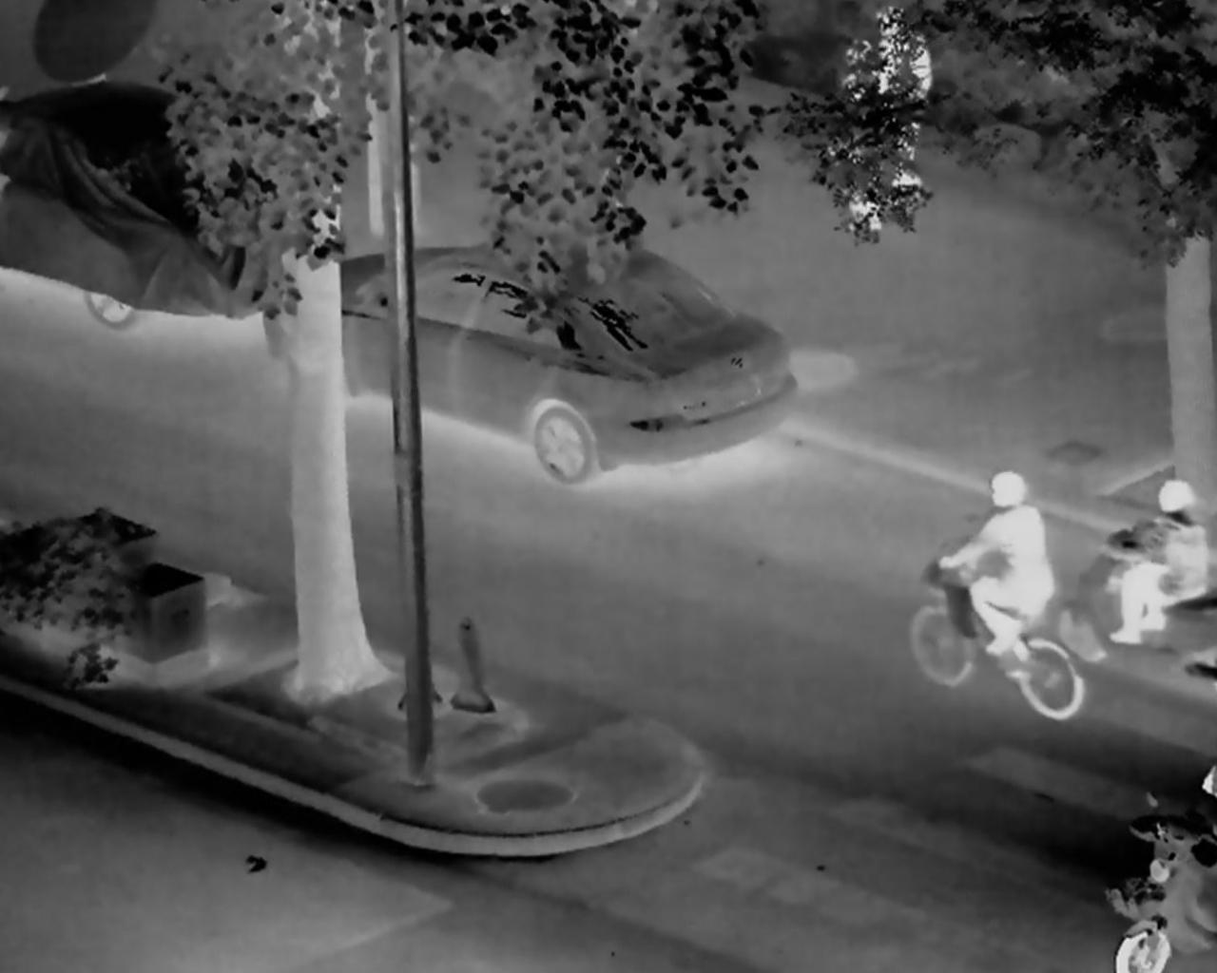person: (939, 473, 1051, 658), (1110, 482, 1209, 640), (853, 6, 931, 193), (837, 37, 887, 231)
